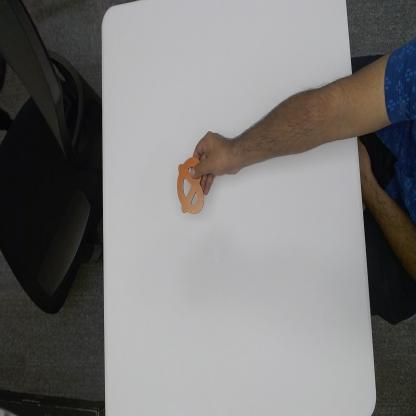Arm: (234, 73, 357, 174)
Hand: (190, 128, 234, 196)
Pretzel: (176, 154, 204, 215)
